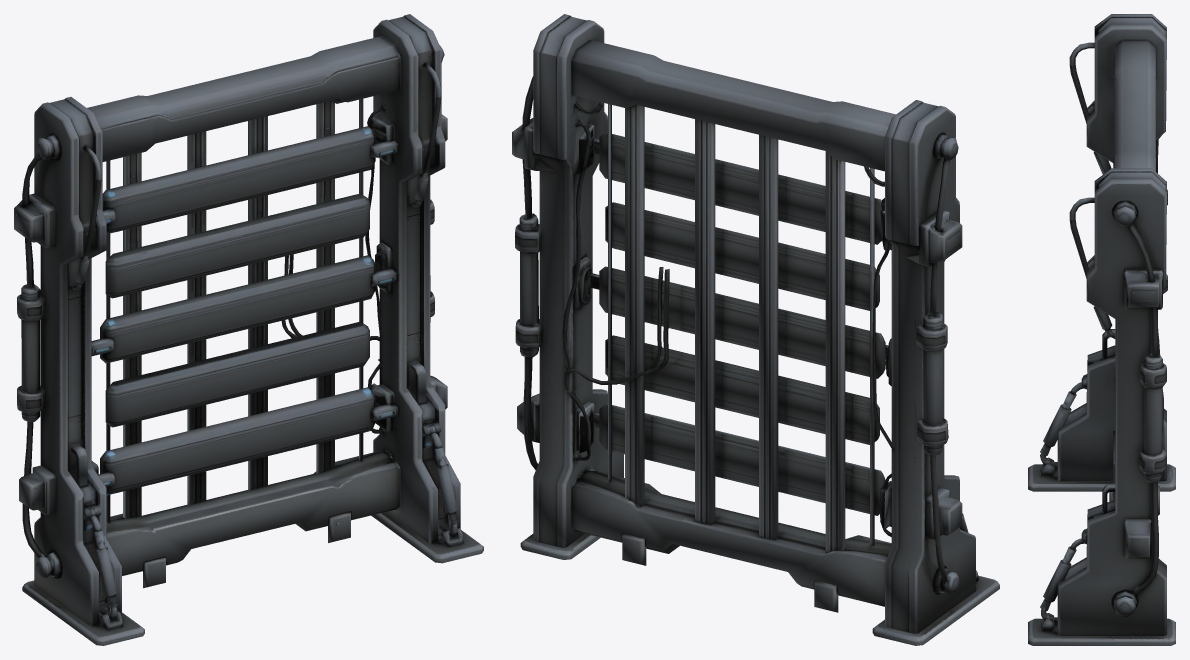
File: selected.glb
3 renders of one model, left to right at view 1: azimuth 30°, elevation 25°; view 2: azimuth 150°, elevation 25°; view 3: azimuth 270°, elevation 25°, orthographic. The views are drawn at different scales.
Visible parts, largest first — view 1: tripo_node_fc6e3451-09b4-41f8-982a-a96805f26ed6; view 2: tripo_node_fc6e3451-09b4-41f8-982a-a96805f26ed6; view 3: tripo_node_fc6e3451-09b4-41f8-982a-a96805f26ed6.
Boxes of the visible parts, x1,y1,x2,y2 form: tripo_node_fc6e3451-09b4-41f8-982a-a96805f26ed6: [14, 14, 483, 645]; tripo_node_fc6e3451-09b4-41f8-982a-a96805f26ed6: [512, 14, 999, 645]; tripo_node_fc6e3451-09b4-41f8-982a-a96805f26ed6: [1028, 14, 1175, 645].
Bounding box in the file's own units: 0.8848 × 0.998 × 0.291.
Materials: 1 (1 with a texture image).
